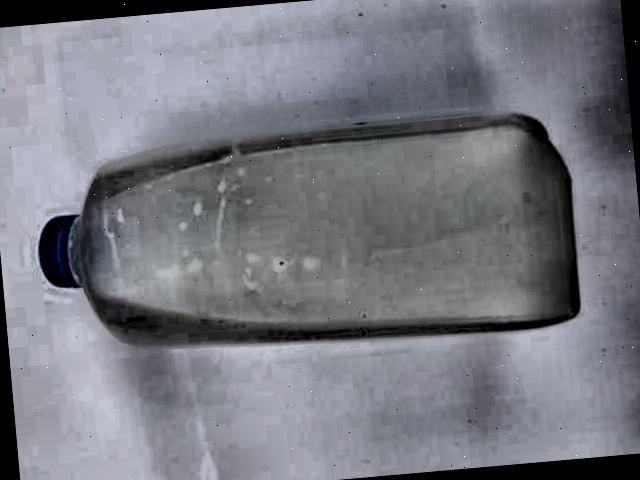Plastic: (1, 88, 594, 390)
